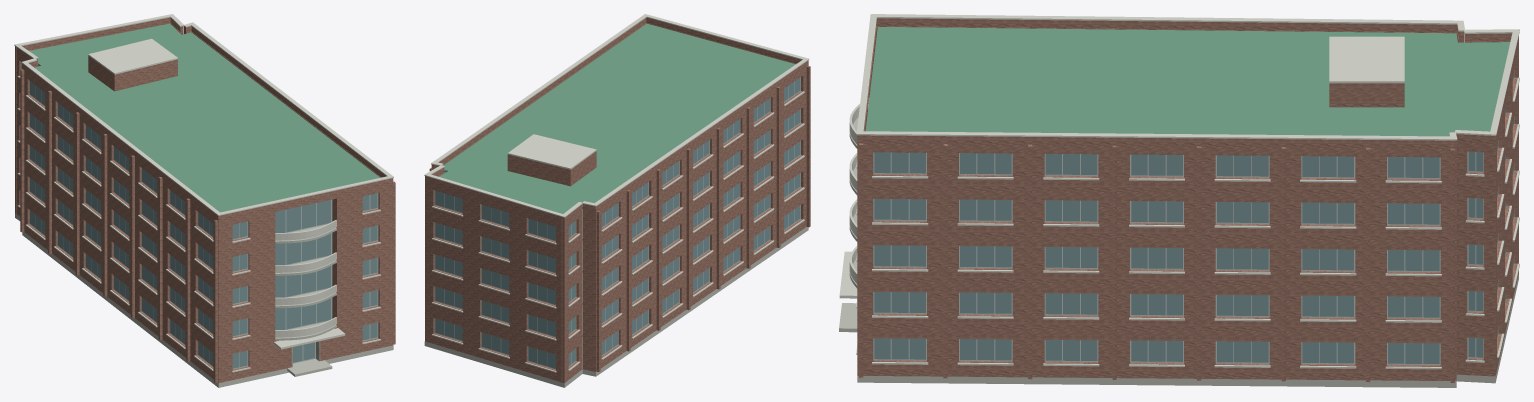
3 renders of one model, left to right at view 1: azimuth 30°, elevation 25°; view 2: azimuth 150°, elevation 25°; view 3: azimuth 270°, elevation 25°, orthographic. The views are drawn at different scales.
Visible parts, largest first — view 1: kium__brick, kium__roof, kium__glass, kium__white, kium__frame, kium__threshold-entry, kium__slab; view 2: kium__brick, kium__roof, kium__glass, kium__white, kium__frame, kium__threshold-entry; view 3: kium__brick, kium__roof, kium__glass, kium__white, kium__frame, kium__threshold-entry.
Part boxes in pixels (bbox=[...]): kium__brick: bbox=[15, 17, 395, 383]; kium__roof: bbox=[29, 23, 380, 212]; kium__glass: bbox=[22, 63, 377, 368]; kium__white: bbox=[14, 14, 393, 372]; kium__frame: bbox=[21, 62, 378, 369]; kium__threshold-entry: bbox=[15, 213, 393, 387]; kium__slab: bbox=[275, 225, 336, 340]; kium__brick: bbox=[425, 17, 810, 383]; kium__roof: bbox=[439, 23, 795, 213]; kium__glass: bbox=[435, 77, 800, 368]; kium__white: bbox=[424, 14, 809, 372]; kium__frame: bbox=[434, 77, 800, 369]; kium__threshold-entry: bbox=[424, 227, 808, 387]; kium__brick: bbox=[857, 18, 1518, 382]; kium__roof: bbox=[865, 27, 1510, 136]; kium__glass: bbox=[874, 73, 1513, 363]; kium__white: bbox=[839, 14, 1519, 369]; kium__frame: bbox=[873, 70, 1514, 365]; kium__threshold-entry: bbox=[839, 274, 1518, 387].
Bounding box in the file's own units: 20.1 × 19.4 × 45.11.
9 materials, 2 textured.
